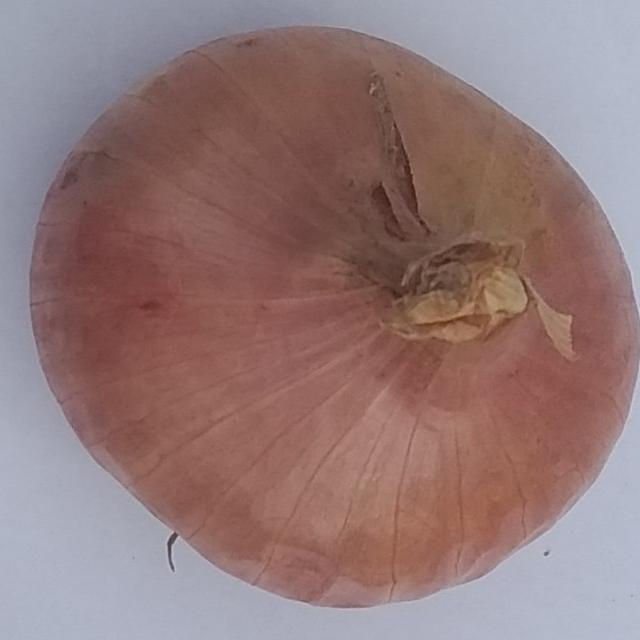onion: (24, 22, 640, 613)
